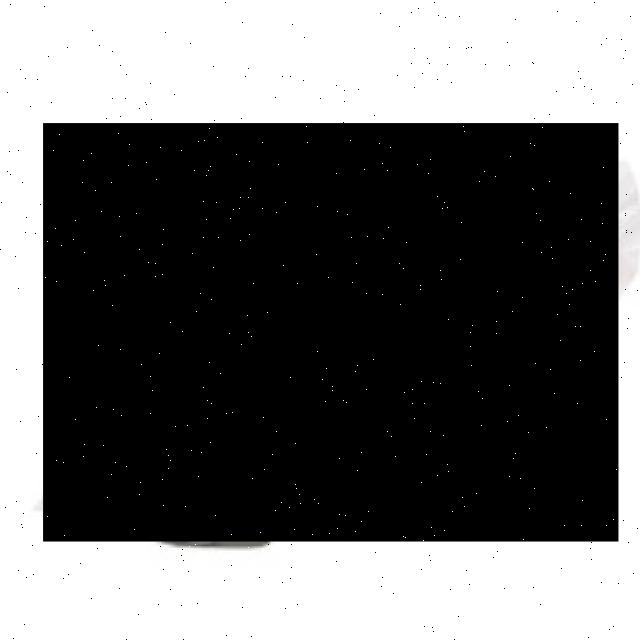Capsicum: (43, 123, 619, 542)
